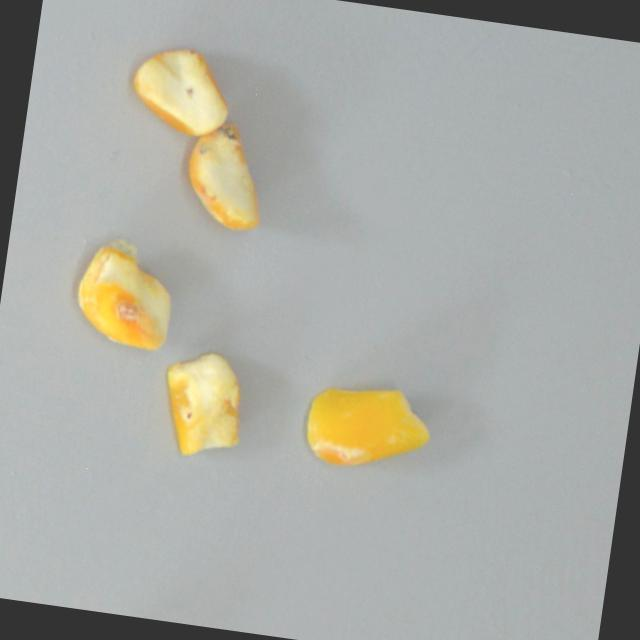dañado: (65, 231, 182, 359), (178, 116, 274, 234)
pelicula: (297, 368, 436, 484)
punto_negro: (152, 342, 253, 464), (125, 39, 238, 140)
